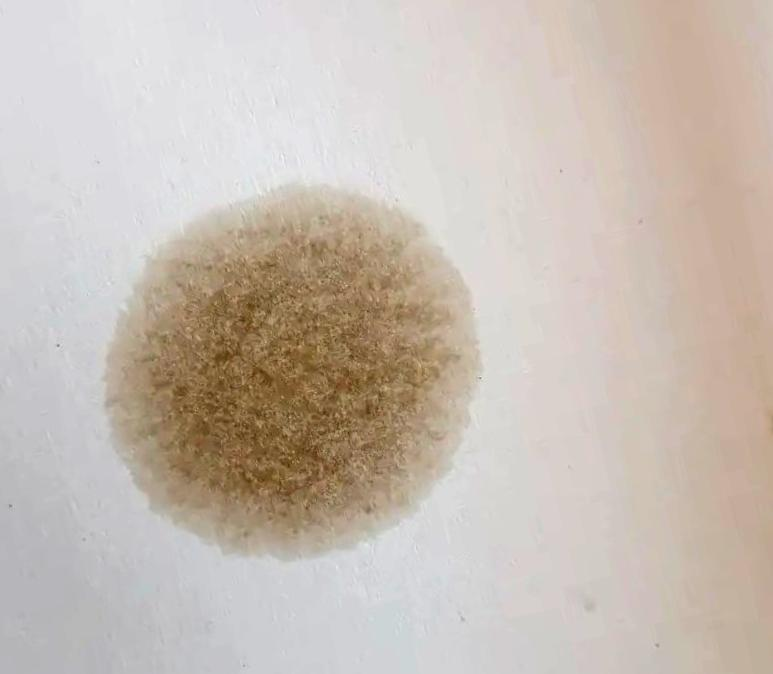stain: (98, 169, 488, 574)
